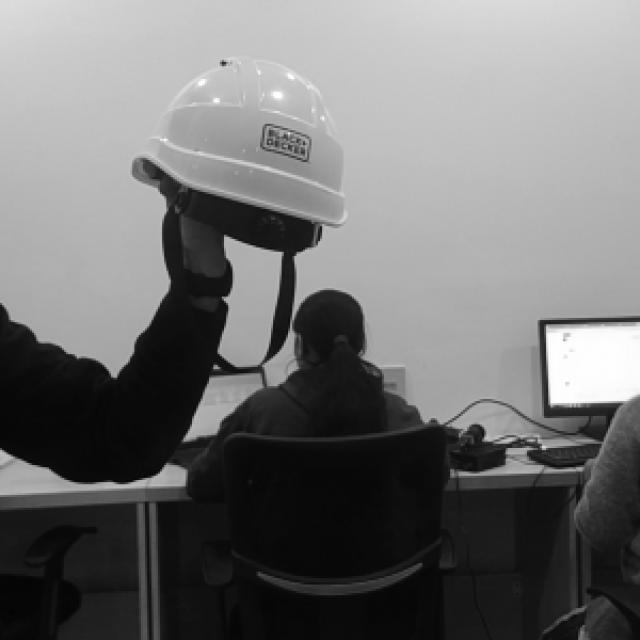safety_helmet: (133, 61, 349, 229)
